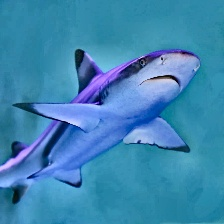shark: (7, 46, 203, 191)
